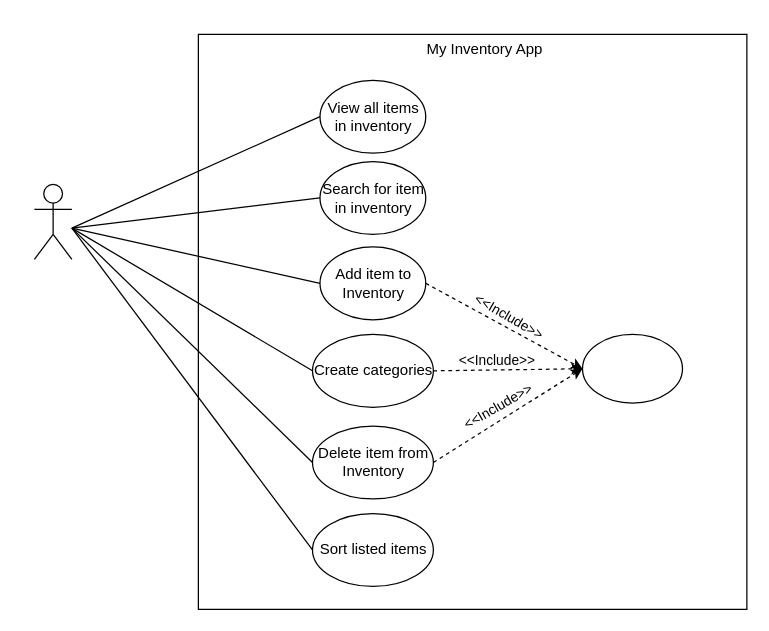
Some shapes in this 769 by 631 pixel diagram are drawn without their labels. Here are the shapes that lost their labels. From the top down, the centre of each, then its label:
At point (52, 221): "End User".
At point (631, 368): "Edit Inventory".
